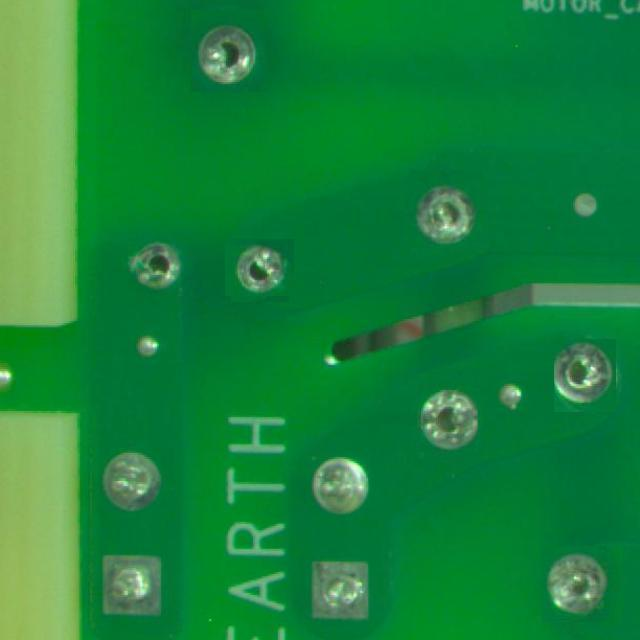lack_of_part: (191, 10, 268, 92), (408, 174, 486, 252), (542, 546, 622, 622), (554, 339, 616, 412), (420, 380, 480, 452), (228, 236, 292, 299), (122, 239, 185, 296)
